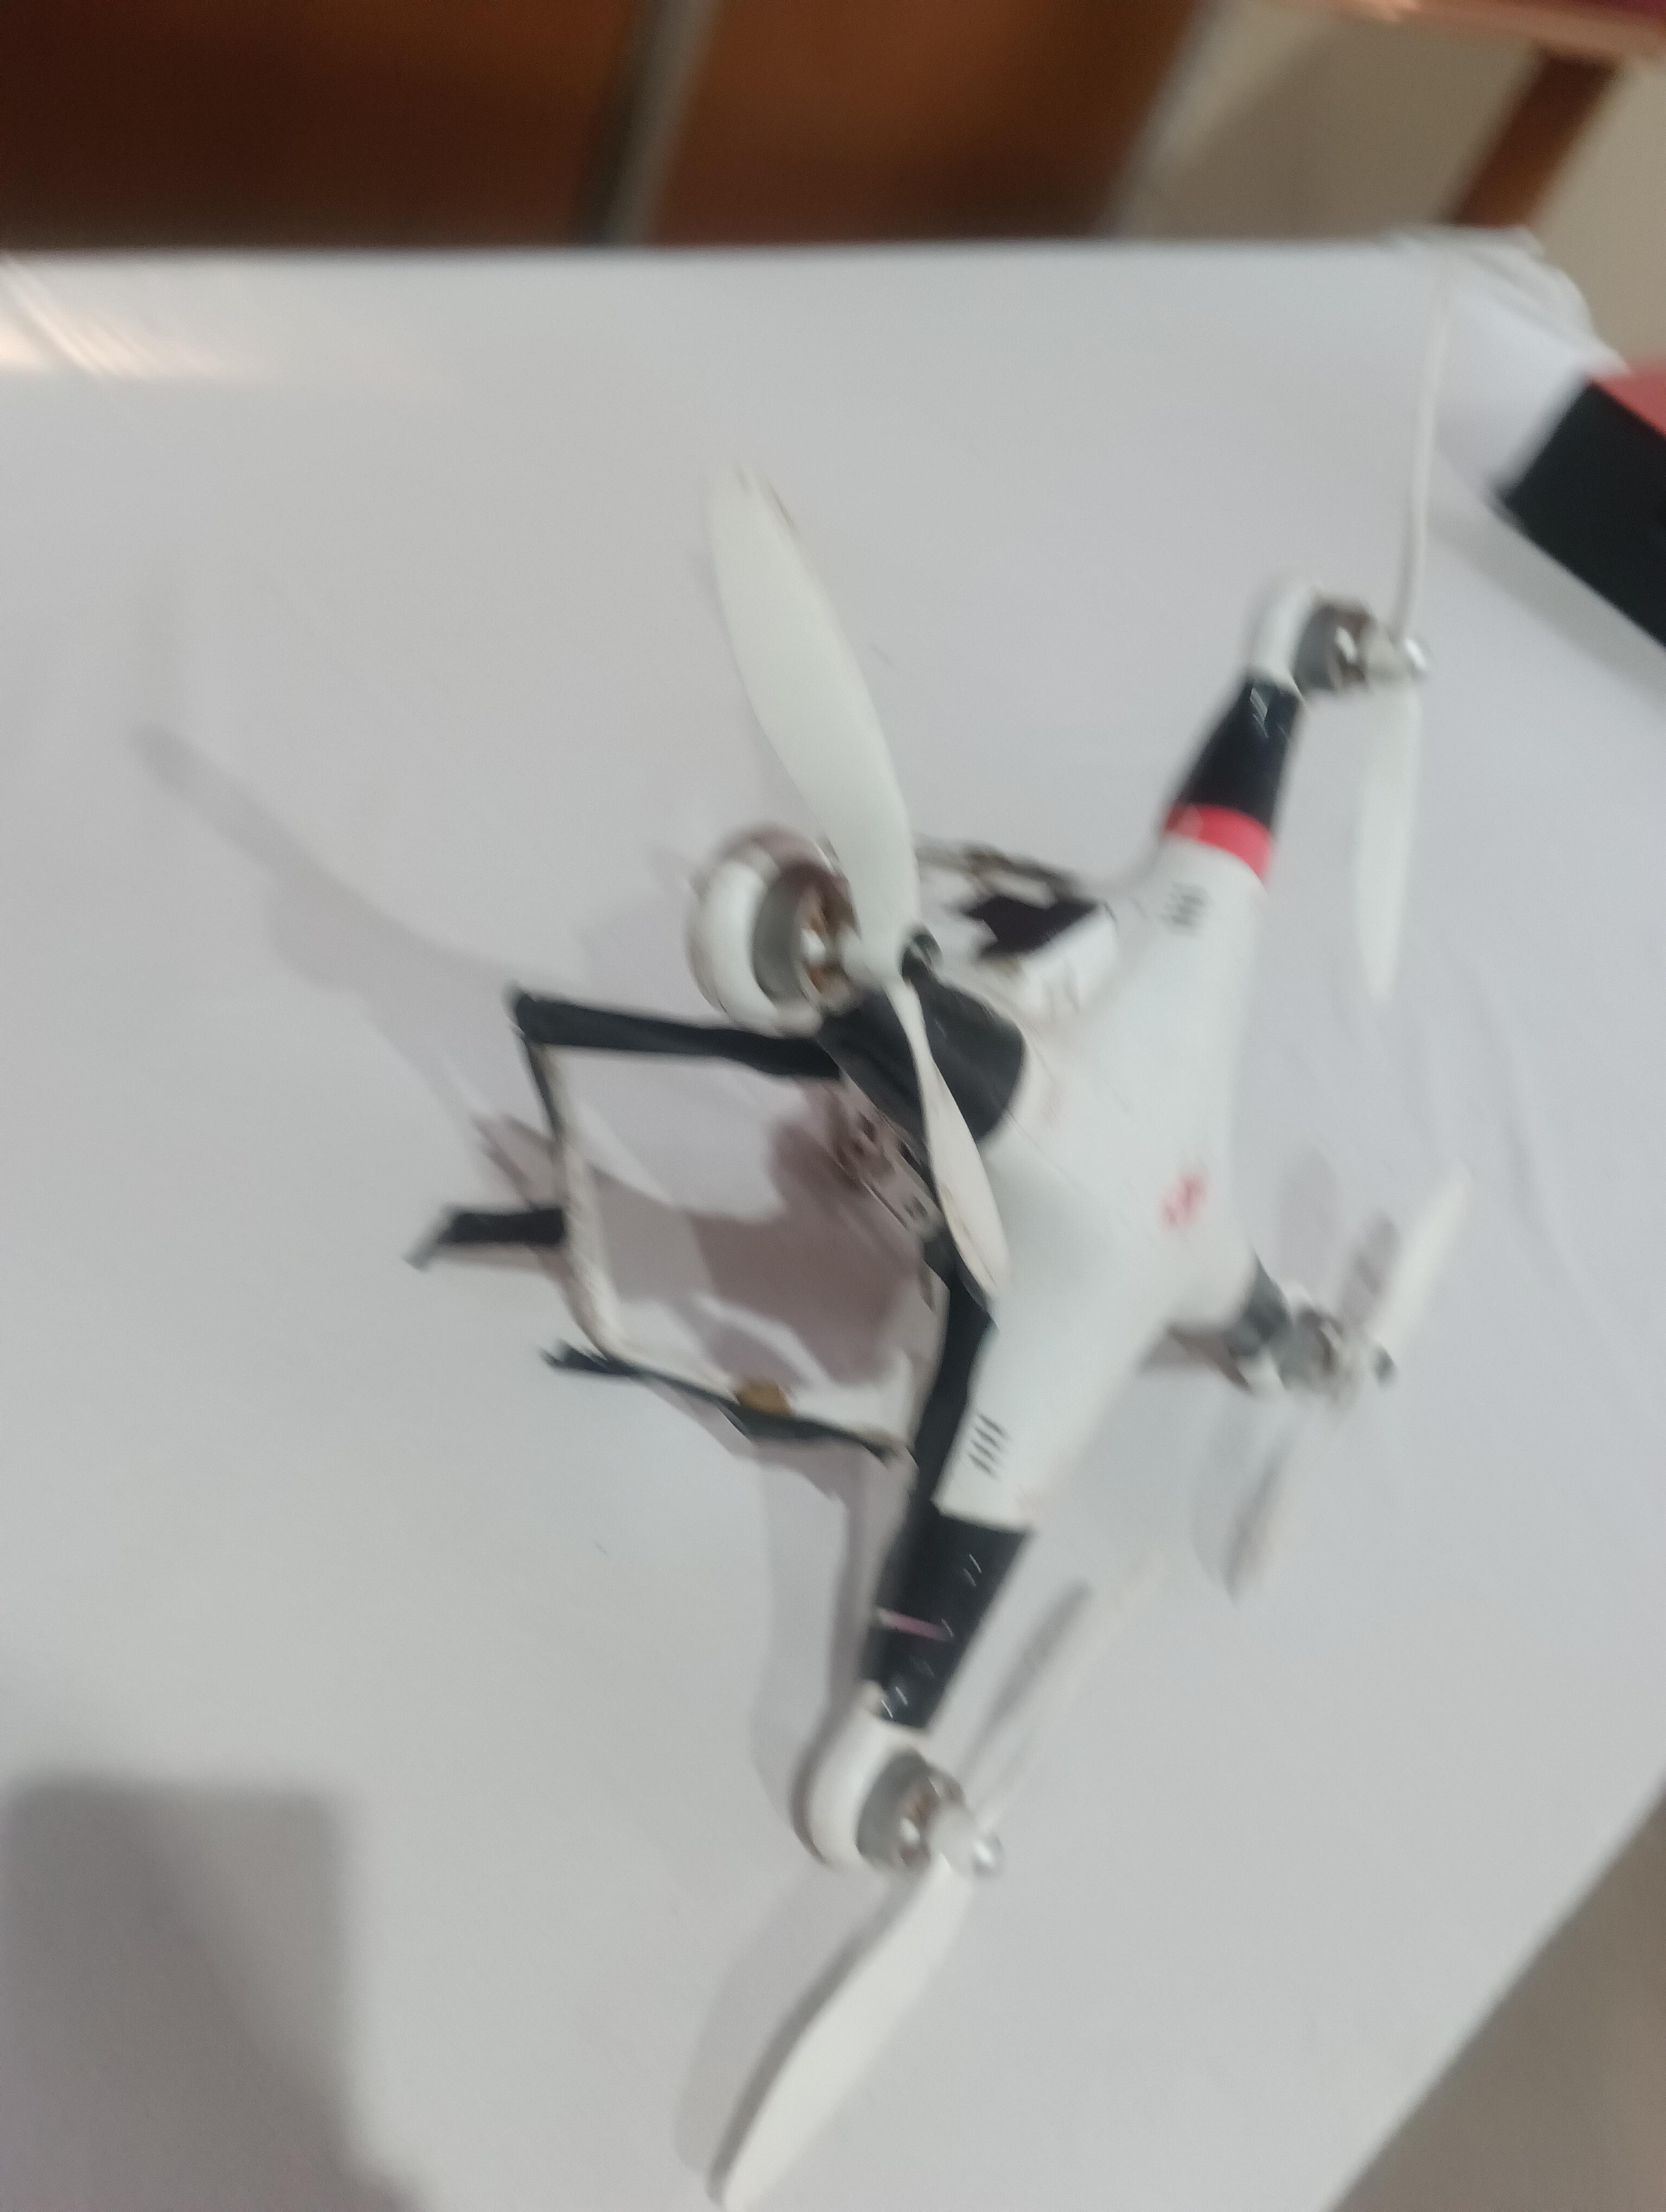drone: (550, 546, 1507, 1925)
